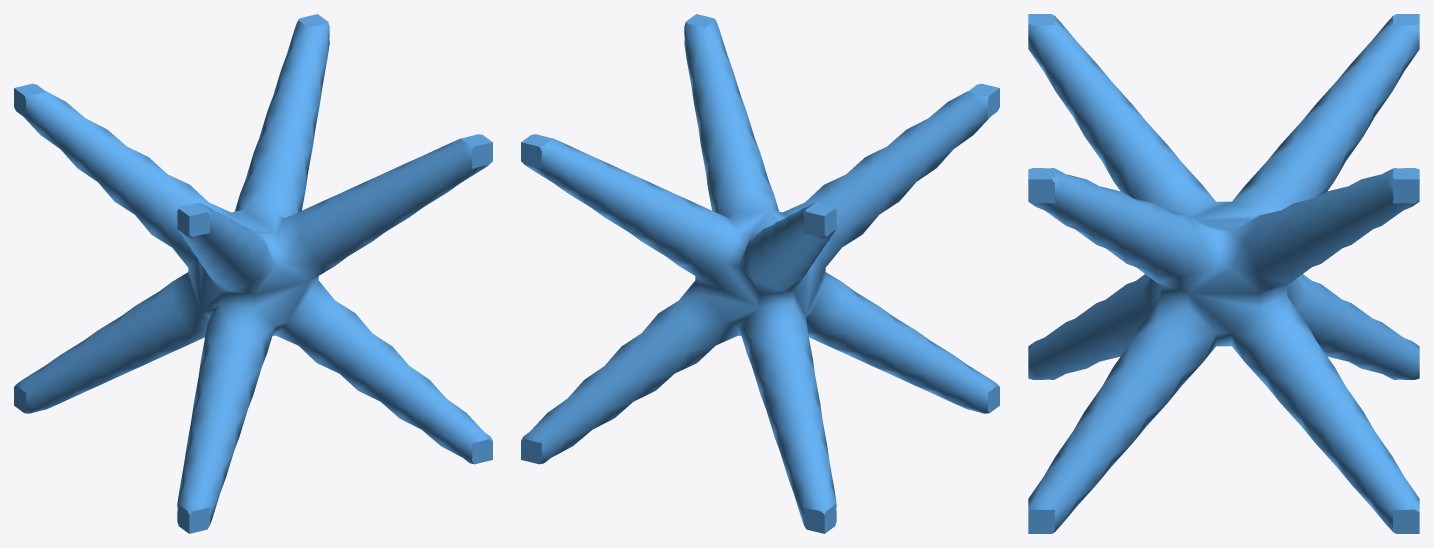
Rendered from Variante2.glb.
3 renders of one model, left to right at view 1: azimuth 30°, elevation 25°; view 2: azimuth 150°, elevation 25°; view 3: azimuth 270°, elevation 25°, orthographic. The views are drawn at different scales.
Visible parts, largest first — view 1: Mesh_0.001; view 2: Mesh_0.001; view 3: Mesh_0.001.
Boxes of the visible parts, x1=… form: Mesh_0.001: x1=14, y1=14, x2=492, y2=533; Mesh_0.001: x1=521, y1=14, x2=999, y2=533; Mesh_0.001: x1=1028, y1=14, x2=1419, y2=533.
Size of the model in its own units: 1 by 1 by 1.
